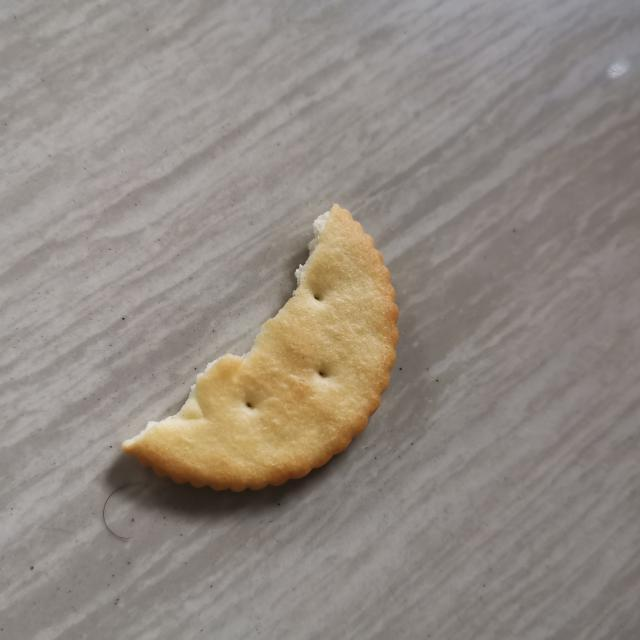Broken: (120, 202, 400, 493)
